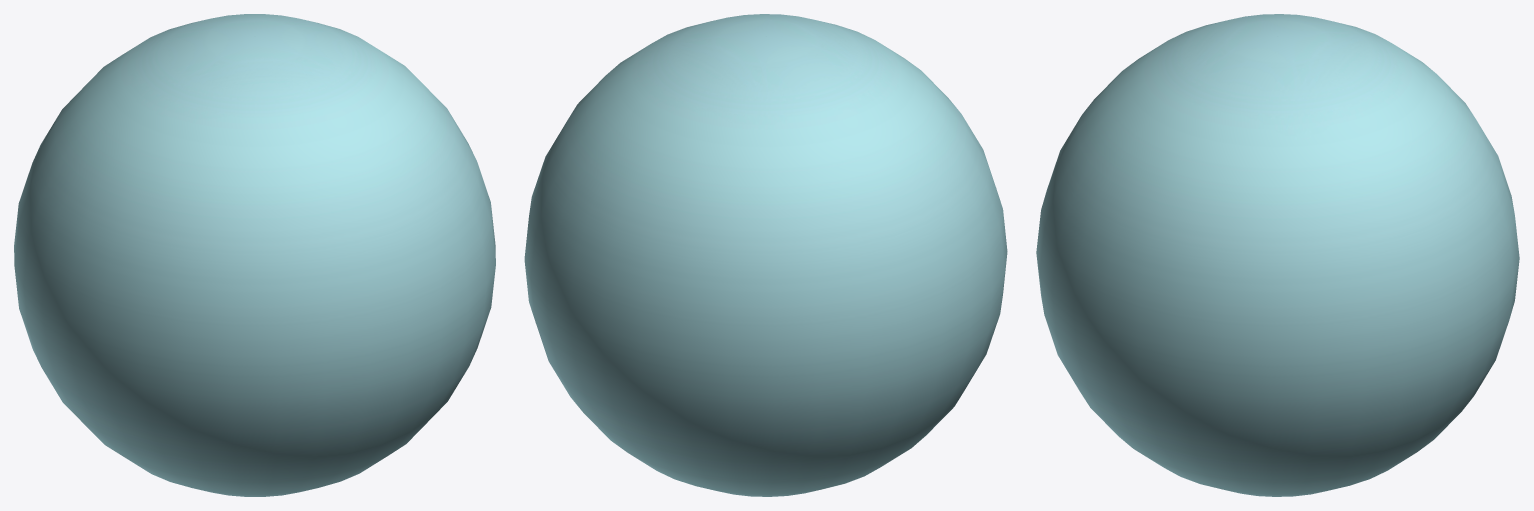
File: Uranus.obj
The picture shows the model from 3 angles, left to right: view 1: azimuth 30°, elevation 25°; view 2: azimuth 150°, elevation 25°; view 3: azimuth 270°, elevation 25°; orthographic projection.
Parts seen in each view (by area): view 1: 119; view 2: 119; view 3: 119.
Part boxes in pixels (box(x1,y1,x2,y2)): 119: box(14, 14, 495, 496); 119: box(524, 14, 1007, 496); 119: box(1036, 14, 1519, 496).
Size of the model in its own units: 3.16 by 3.17 by 3.16.
Materials: 1 (1 with a texture image).
